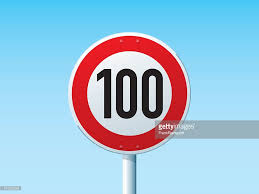Speed_limit_100km: (69, 32, 192, 155)
